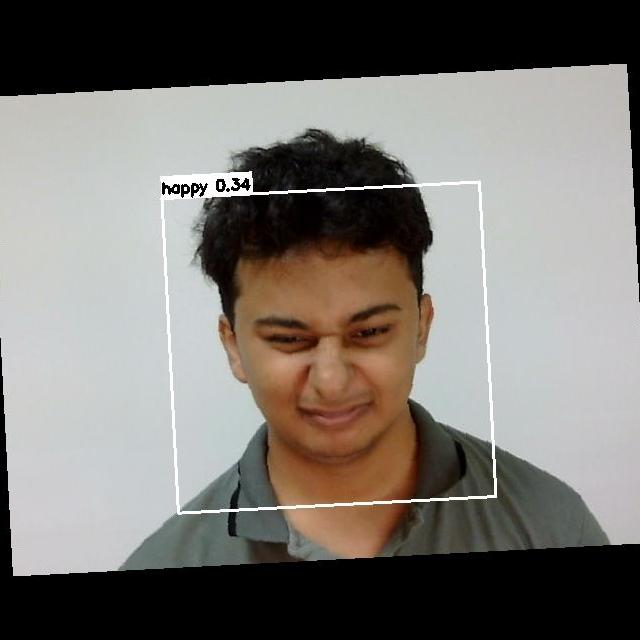Angry: (239, 285, 449, 455)
